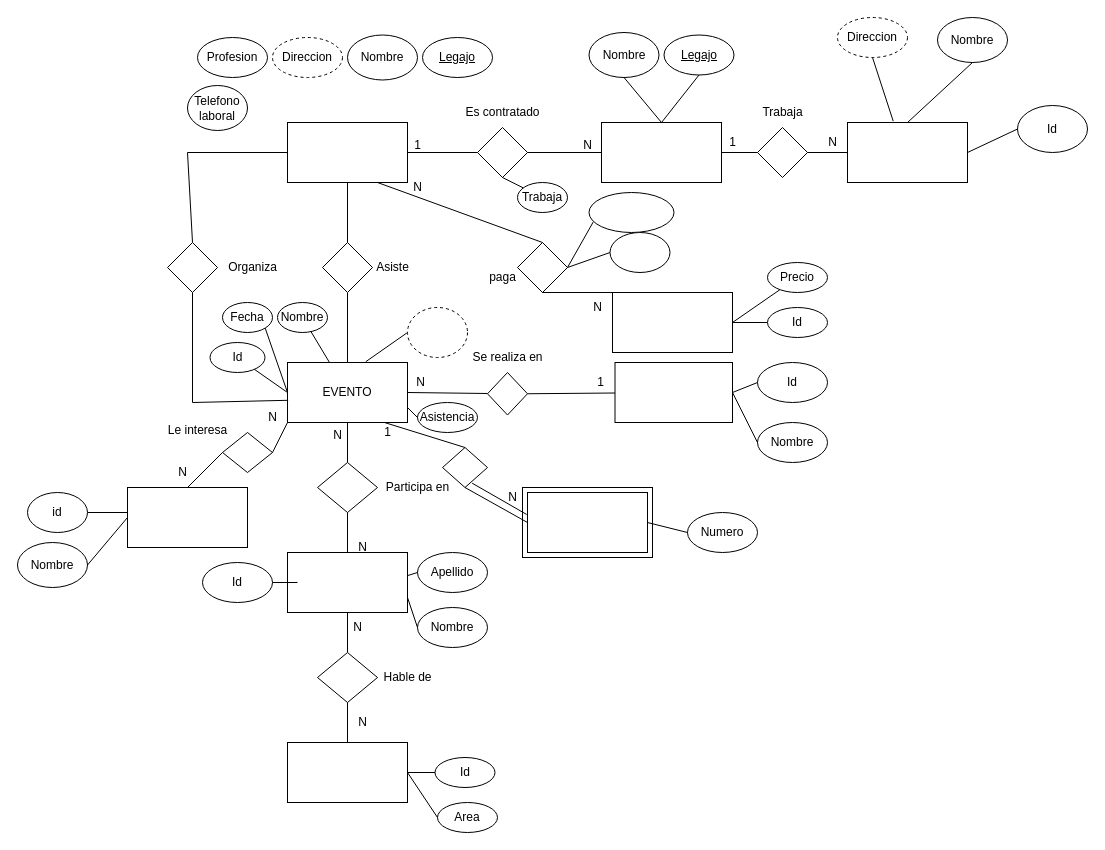
Some shapes in this 1105 by 850 pixel diagram are drawn without their labels. The box of each missing label's shape, as (x1, y1, x2, y2) in pixels:
AREA DE APLICACION: (126, 486, 248, 548)
COMENTARIO: (526, 492, 648, 552)
COMPAÑIA: (846, 122, 968, 182)
Costo de realizacion: (406, 306, 468, 358)
CUOTA: (612, 292, 732, 352)
EMPLEADOR: (600, 122, 722, 182)
ESTABLECIMIENTO: (614, 362, 732, 422)
Fecha de pago: (609, 232, 670, 272)
Fecha de vencimiento: (588, 192, 674, 232)
MIEMBRO: (286, 122, 408, 182)
ORADOR: (286, 552, 408, 612)
TOPICO: (286, 742, 408, 802)
